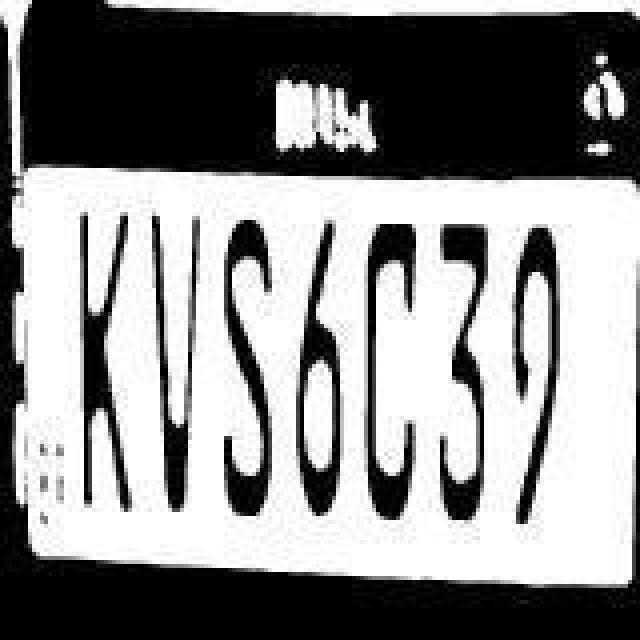3: (428, 224, 492, 520)
6: (276, 214, 348, 522)
9: (496, 222, 568, 530)
C: (356, 222, 420, 522)
K: (66, 198, 142, 506)
S: (204, 216, 276, 520)
V: (150, 212, 202, 508)
